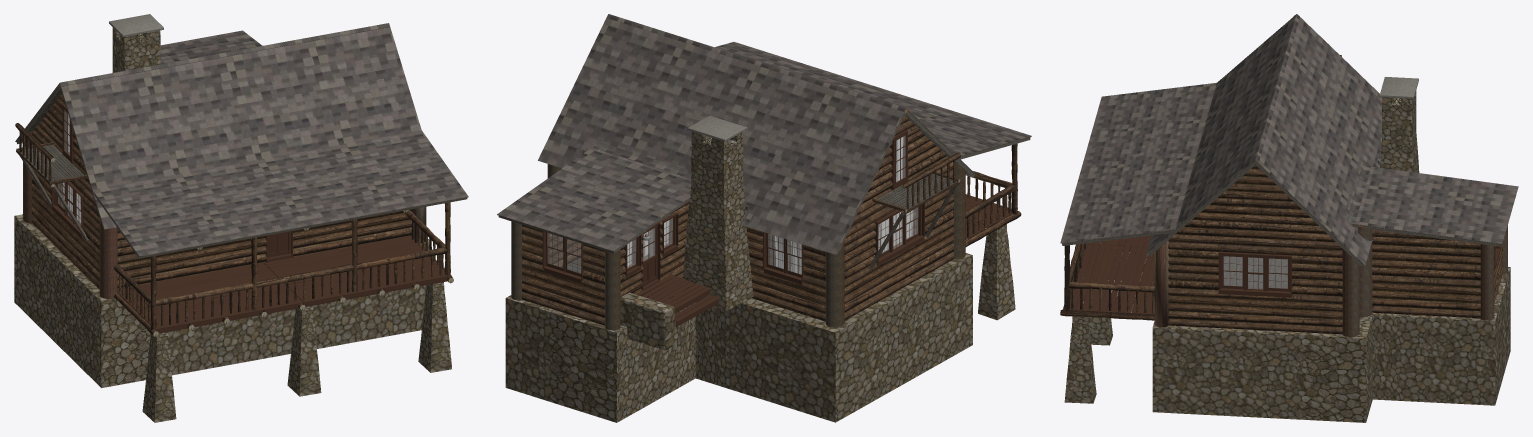
Rendered from house1.glb.
3 views of the same model, side by side, from view 1: azimuth 30°, elevation 25°; view 2: azimuth 150°, elevation 25°; view 3: azimuth 270°, elevation 25° (orthographic). The views are drawn at different scales.
Parts seen in each view (by area): view 1: Object_30, Object_4, Object_17, Object_11, Object_38, Object_28, Object_40, Object_10, Object_7, Object_33, Object_9; view 2: Object_30, Object_4, Object_17, Object_28, Object_40, Object_34, Object_38, Object_47, Object_12, Object_41, Object_10, Object_7 (+4 smaller); view 3: Object_30, Object_4, Object_17, Object_28, Object_11, Object_33, Object_40, Object_38, Object_8, Object_34, Object_7.
Boxes of the visible parts, x1,y1,x2,y2 form: Object_30: [16, 23, 468, 256]; Object_4: [14, 27, 451, 422]; Object_17: [15, 92, 452, 335]; Object_11: [116, 235, 451, 333]; Object_38: [15, 83, 468, 258]; Object_28: [23, 131, 426, 298]; Object_40: [51, 181, 292, 262]; Object_10: [18, 89, 84, 181]; Object_7: [109, 14, 163, 36]; Object_33: [32, 183, 411, 288]; Object_9: [62, 104, 292, 262]; Object_30: [497, 14, 1031, 254]; Object_4: [505, 131, 1015, 422]; Object_17: [522, 116, 1021, 325]; Object_28: [511, 149, 965, 330]; Object_40: [623, 203, 924, 290]; Object_34: [547, 207, 917, 274]; Object_38: [497, 108, 1031, 269]; Object_47: [542, 231, 804, 284]; Object_12: [636, 274, 719, 326]; Object_41: [627, 137, 913, 274]; Object_10: [877, 114, 970, 209]; Object_7: [687, 115, 746, 141]; Object_30: [1060, 14, 1518, 265]; Object_4: [1064, 91, 1510, 422]; Object_17: [1060, 55, 1502, 334]; Object_28: [1154, 167, 1507, 336]; Object_11: [1062, 235, 1154, 314]; Object_33: [1169, 168, 1502, 327]; Object_40: [1218, 251, 1292, 297]; Object_38: [1060, 160, 1516, 266]; Object_8: [1223, 256, 1287, 288]; Object_34: [1224, 256, 1287, 289]; Object_7: [1379, 77, 1418, 98].
Bounding box in the file's own units: 12.99 × 9.42 × 15.08.
Materials: 24 (14 with a texture image).
